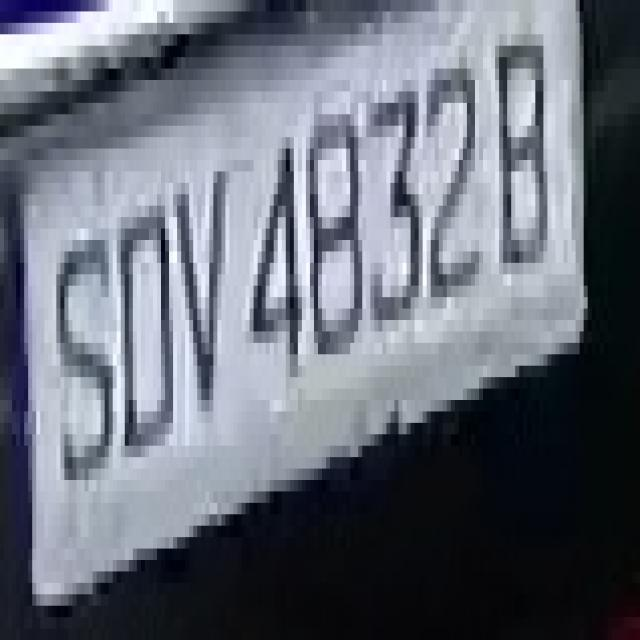2: (415, 46, 487, 366)
3: (350, 69, 423, 400)
4: (237, 114, 306, 434)
8: (302, 69, 362, 412)
B: (491, 34, 564, 309)
D: (113, 160, 181, 503)
S: (52, 160, 121, 503)
V: (181, 160, 242, 457)
